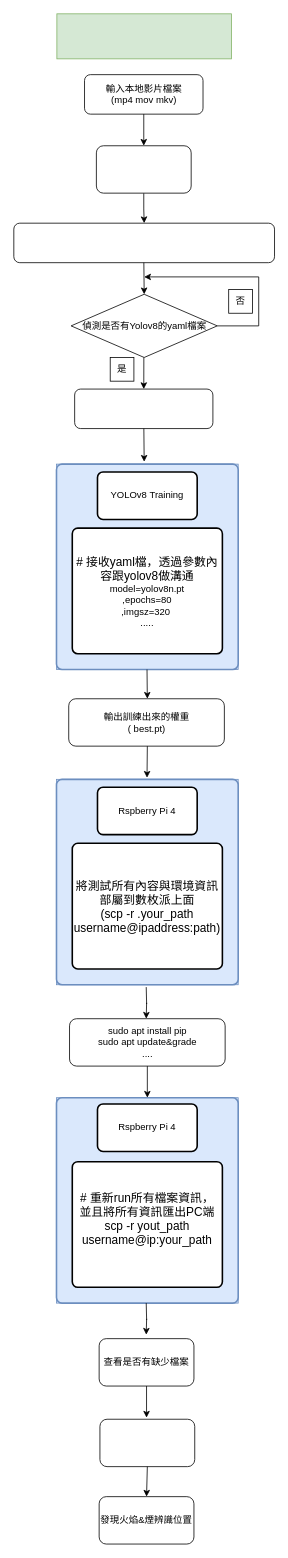
Some shapes in this 288 by 1558 pixel diagram are drawn without their labels. Each missing label, with the centre of its shape:
"OpenCV (extrsct_frams.py )" belongs at point (143, 169).
"利用UI介面看結果" belongs at point (147, 1442).
"煙&火辨識" belongs at point (143, 36).
"讀取yaml參數資訊" belongs at point (143, 408).
"預先裁切影片檔分別每0.05為一張照片" belongs at point (144, 242).
